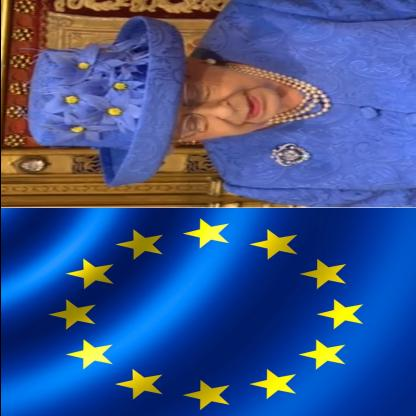hat: (23, 15, 186, 189)
